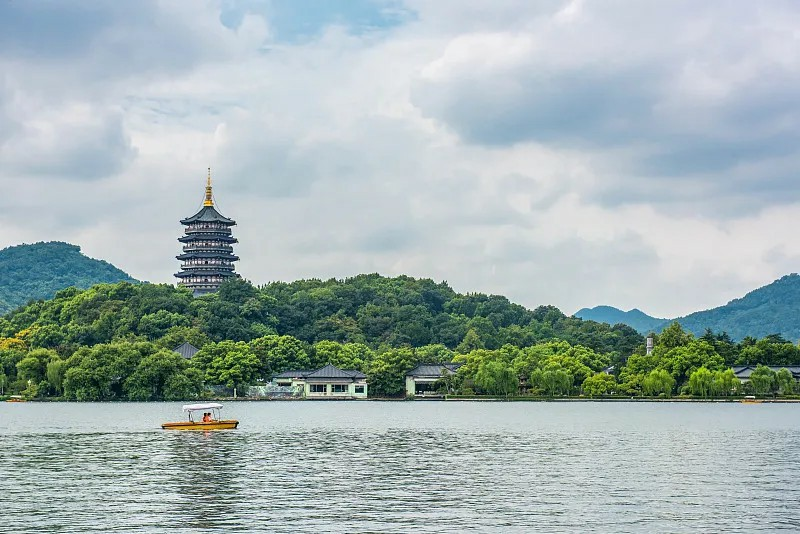Leifeng: (175, 167, 242, 303)
